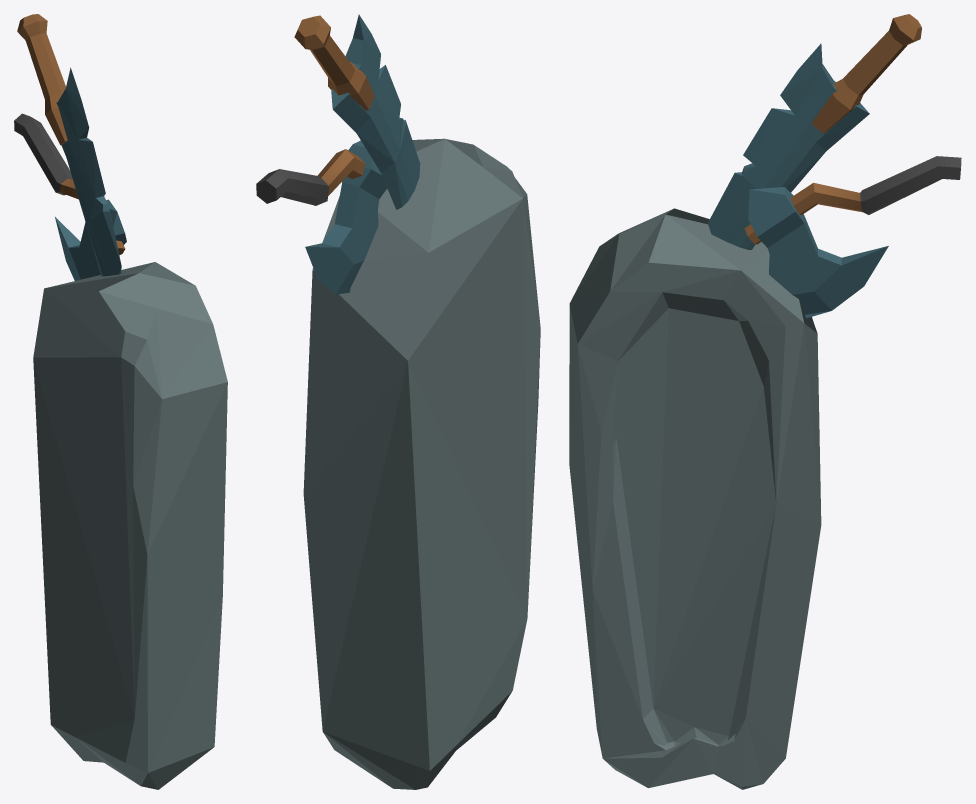
The picture shows the model from 3 angles, left to right: view 1: azimuth 30°, elevation 25°; view 2: azimuth 150°, elevation 25°; view 3: azimuth 270°, elevation 25°; orthographic projection. The views are drawn at different scales.
Visible parts, largest first — view 1: Box635_rock_0, Cylinder1560_metal_0, Cylinder1560_brown_0, Line1357_black_0, Line1357_metal_0; view 2: Box635_rock_0, Cylinder1560_metal_0, Line1357_metal_0, Cylinder1560_brown_0, Line1357_black_0, Line1357_brown_0; view 3: Box635_rock_0, Cylinder1560_metal_0, Line1357_metal_0, Cylinder1560_brown_0, Line1357_black_0, Line1357_brown_0.
Boxes of the visible parts, x1=… form: Box635_rock_0: x1=33, y1=262, x2=227, y2=789; Cylinder1560_metal_0: x1=56, y1=67, x2=121, y2=276; Cylinder1560_brown_0: x1=17, y1=14, x2=67, y2=145; Line1357_black_0: x1=14, y1=113, x2=72, y2=195; Line1357_metal_0: x1=55, y1=199, x2=126, y2=280; Box635_rock_0: x1=303, y1=138, x2=540, y2=789; Cylinder1560_metal_0: x1=331, y1=14, x2=420, y2=209; Line1357_metal_0: x1=305, y1=140, x2=386, y2=294; Cylinder1560_brown_0: x1=294, y1=15, x2=374, y2=110; Line1357_black_0: x1=256, y1=169, x2=329, y2=205; Line1357_brown_0: x1=317, y1=149, x2=387, y2=196; Box635_rock_0: x1=569, y1=208, x2=821, y2=789; Cylinder1560_metal_0: x1=707, y1=43, x2=869, y2=249; Line1357_metal_0: x1=748, y1=187, x2=888, y2=318; Cylinder1560_brown_0: x1=811, y1=14, x2=921, y2=133; Line1357_black_0: x1=860, y1=156, x2=961, y2=214; Line1357_brown_0: x1=744, y1=182, x2=862, y2=244.
Size of the model in its own units: 39.08 by 275 by 127.
